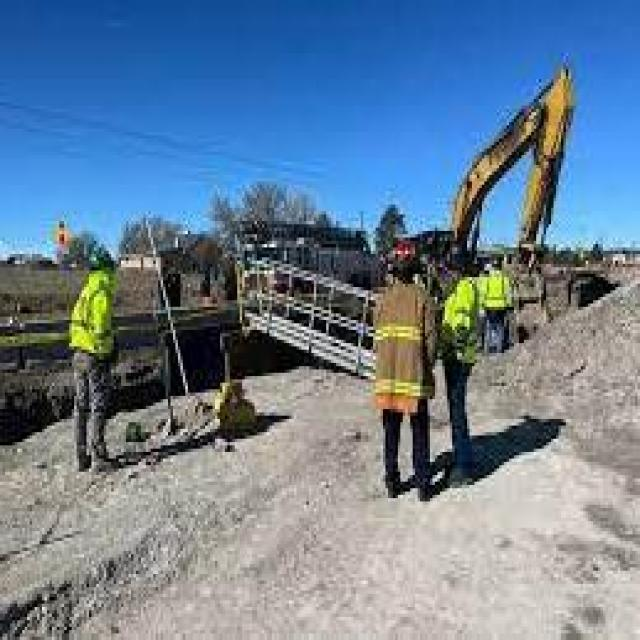Reflective-Jacket: (366, 270, 432, 416), (60, 260, 128, 372), (437, 274, 487, 369)
